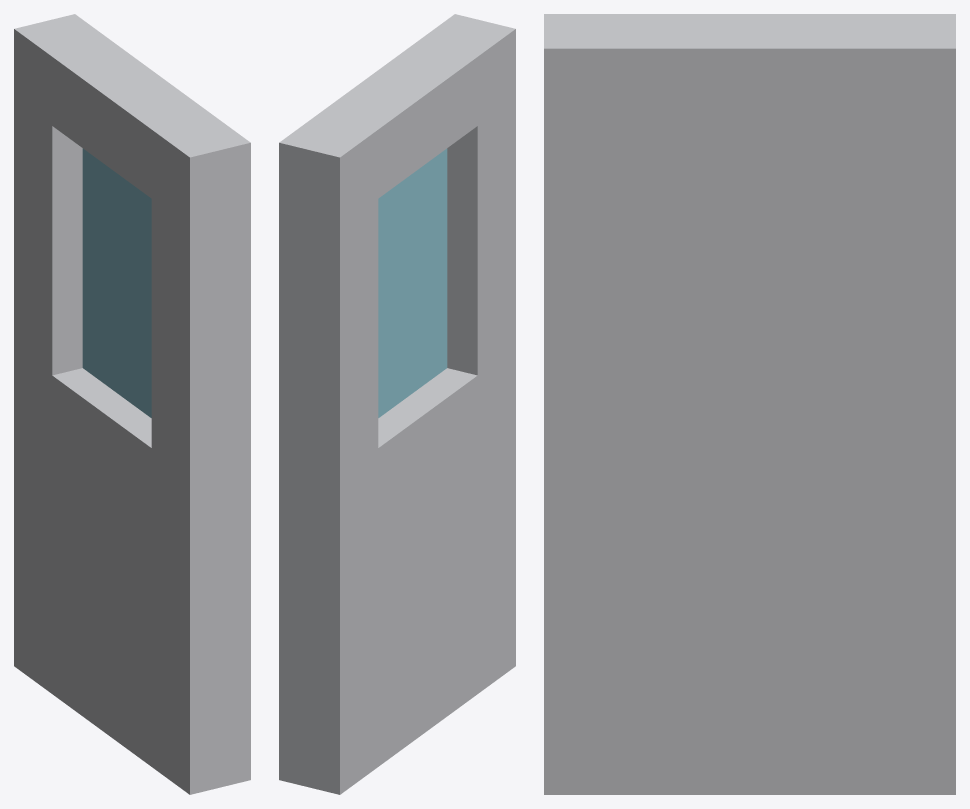
The model's file is modularBuildings_074.obj.
3 renders of one model, left to right at view 1: azimuth 30°, elevation 25°; view 2: azimuth 150°, elevation 25°; view 3: azimuth 270°, elevation 25°, orthographic. The views are drawn at different scales.
Visible parts, largest first — view 1: Mesh1 Group1 Model; view 2: Mesh1 Group1 Model; view 3: Mesh1 Group1 Model.
Part boxes in pixels (x1,y1,x2,y2): Mesh1 Group1 Model: (14, 14, 250, 794); Mesh1 Group1 Model: (279, 14, 515, 794); Mesh1 Group1 Model: (544, 14, 955, 794).
Size of the model in its own units: 0.05 by 0.5 by 0.25.
